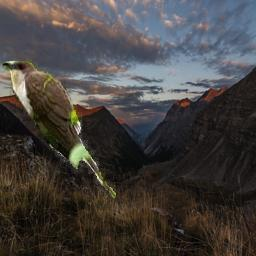Cuckoo: (2, 59, 116, 198)
